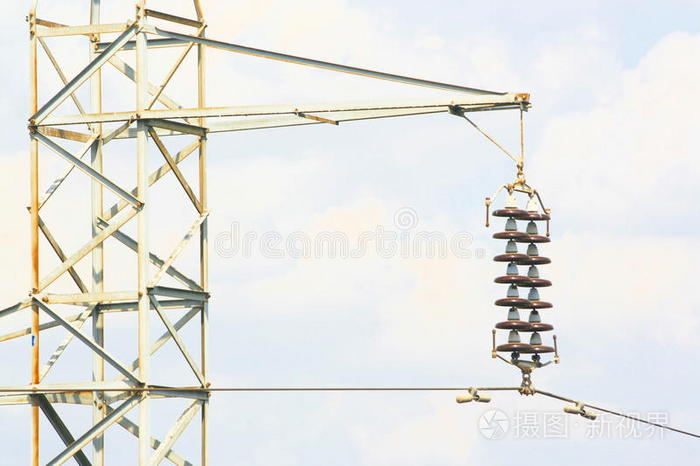insulator: (490, 205, 530, 357), (526, 212, 554, 354)
